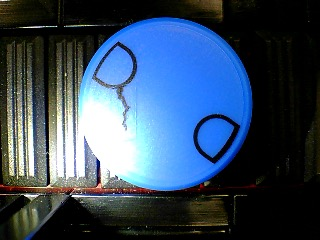CRACK: (78, 16, 253, 192)
